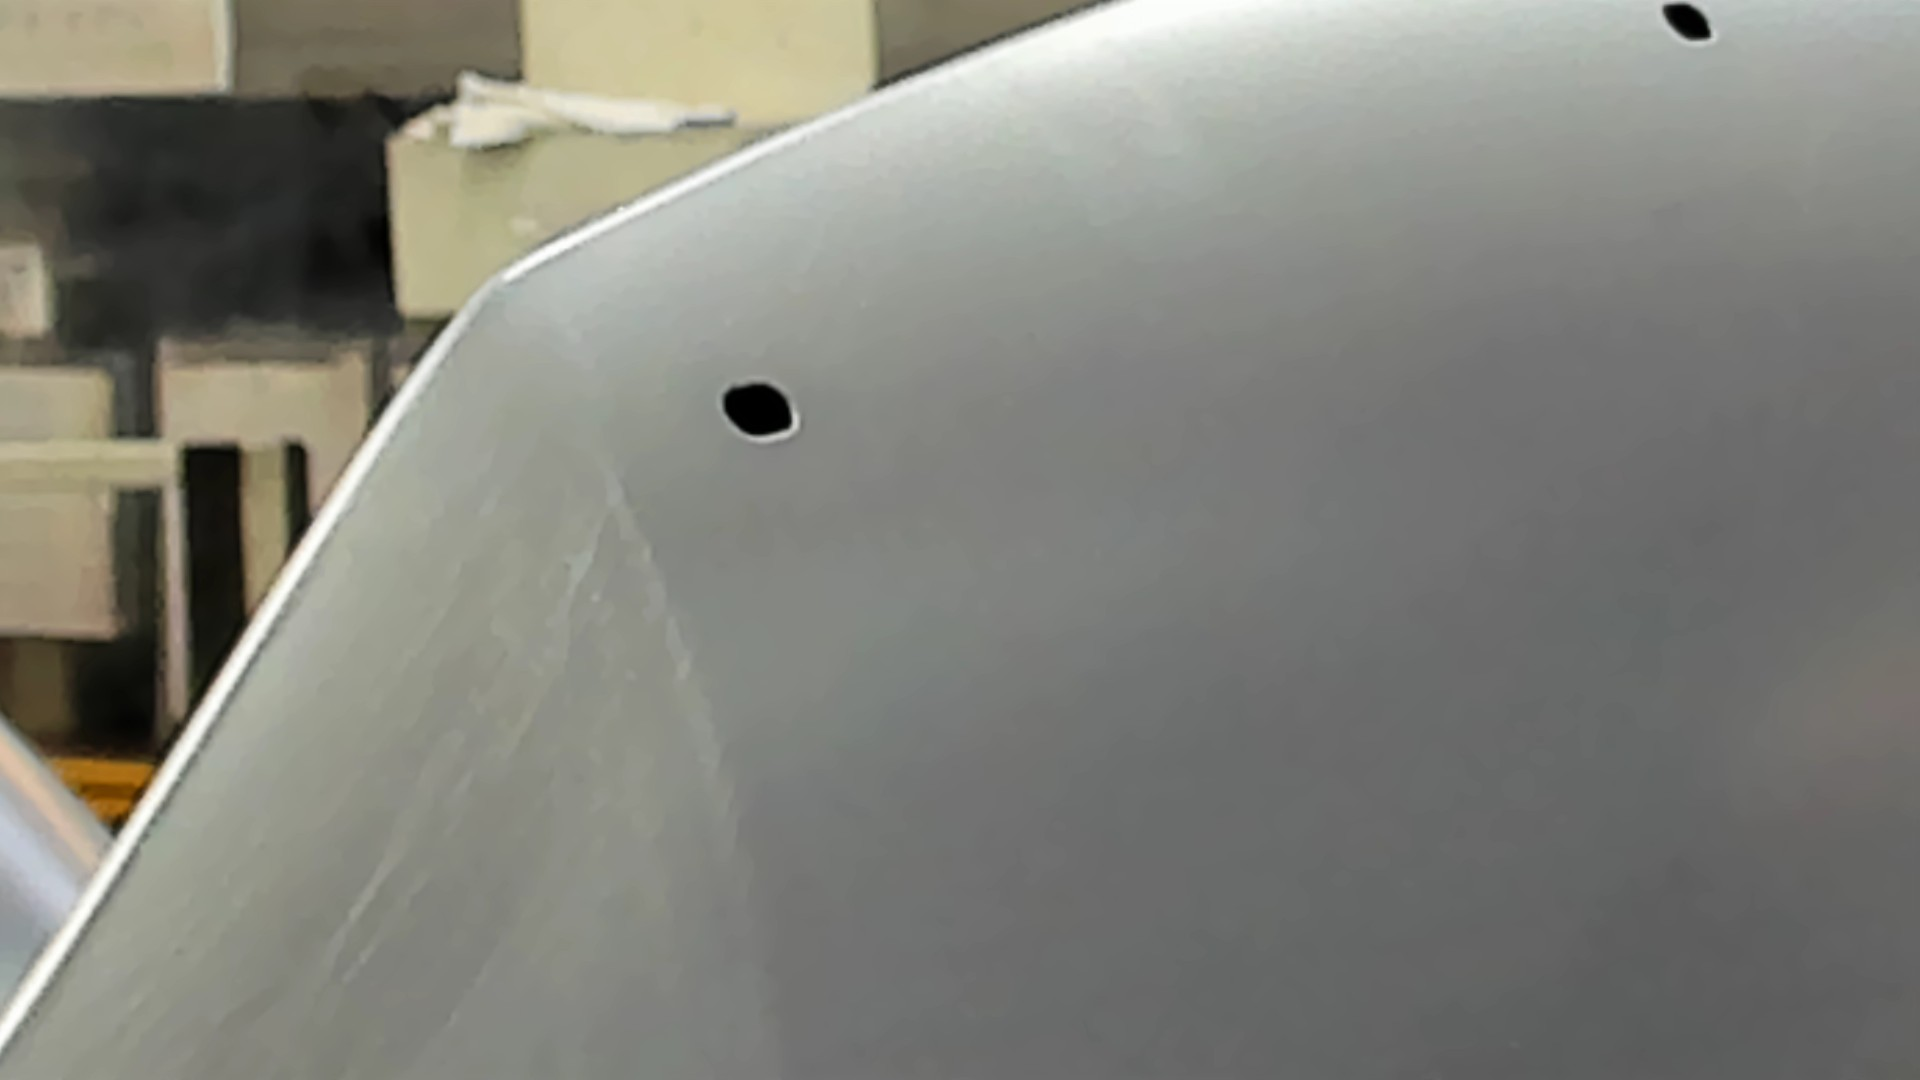amorfo: (717, 378, 800, 440), (1660, 1, 1720, 47)
